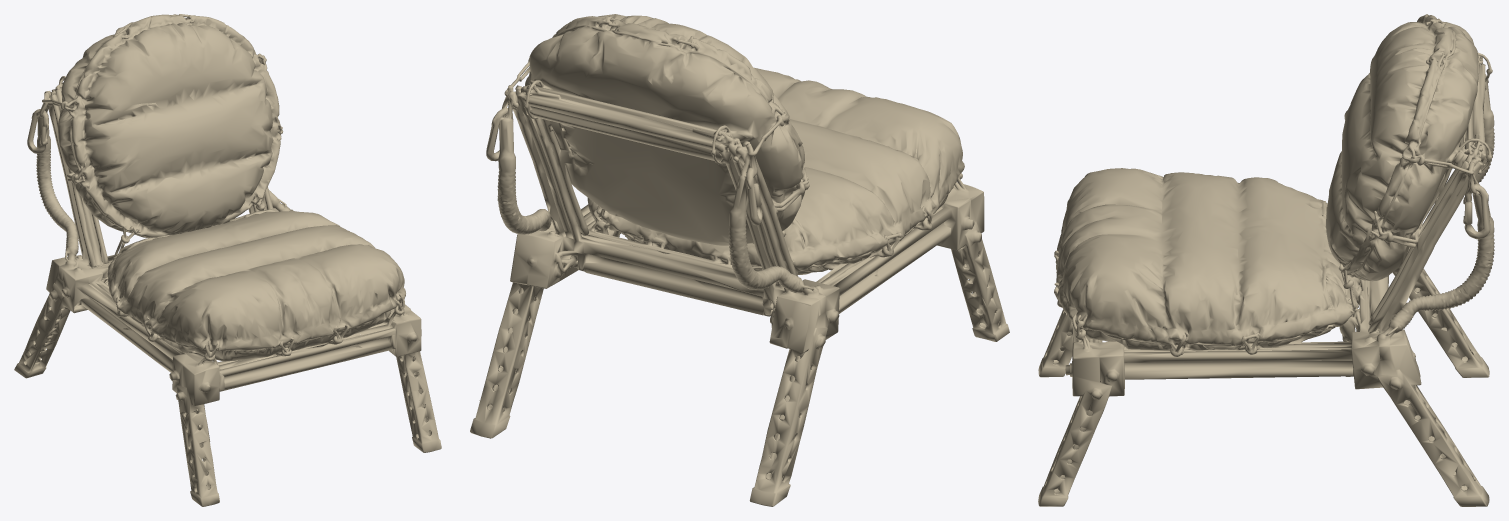
The model's file is gen-lounge-chair-inflatable-cushion-1.glb.
The picture shows the model from 3 angles, left to right: view 1: azimuth 30°, elevation 25°; view 2: azimuth 150°, elevation 25°; view 3: azimuth 270°, elevation 25°; orthographic projection. The views are drawn at different scales.
Visible parts, largest first — view 1: gen-lounge-chair-inflatable-cushion-1_part1; view 2: gen-lounge-chair-inflatable-cushion-1_part1; view 3: gen-lounge-chair-inflatable-cushion-1_part1.
Boxes of the visible parts, x1,y1,x2,y2 form: gen-lounge-chair-inflatable-cushion-1_part1: (14,14,441,506); gen-lounge-chair-inflatable-cushion-1_part1: (470,14,1009,506); gen-lounge-chair-inflatable-cushion-1_part1: (1038,14,1494,506).
Size of the model in its own units: 679 by 900 by 923.
